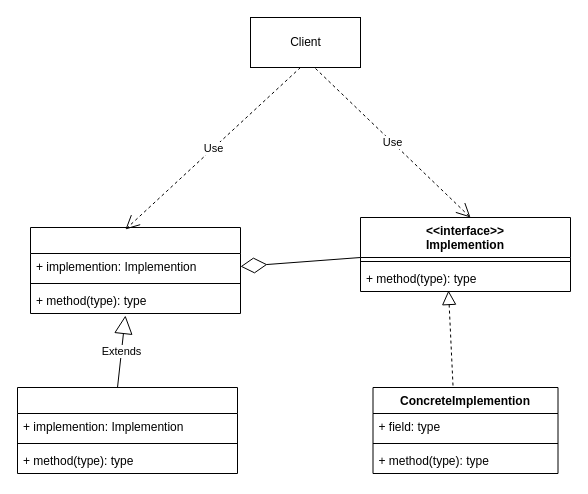
Some shapes in this 588 by 494 pixel diagram are drawn without their labels. Each missing label, with the box of its shape:
Abstraction: (30, 226, 240, 314)
RefinedAbstraction: (16, 386, 238, 474)
